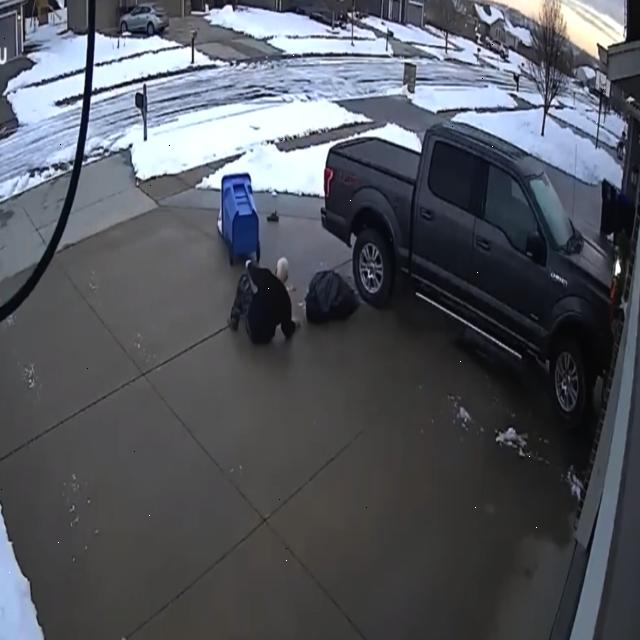fallen: (229, 257, 299, 344)
